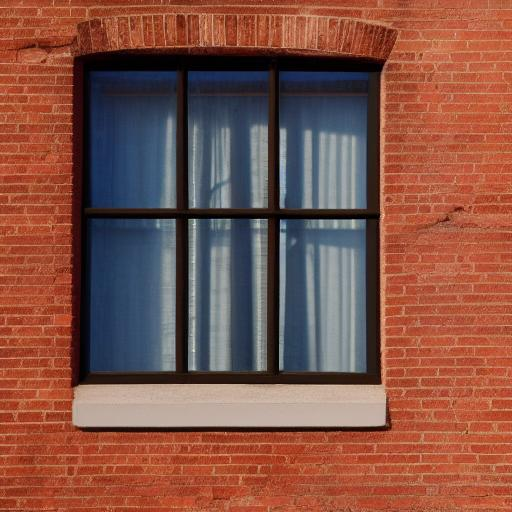Window: (69, 13, 402, 437)
